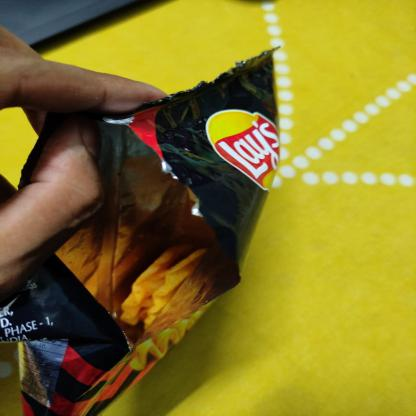plastic: (18, 47, 268, 407)
